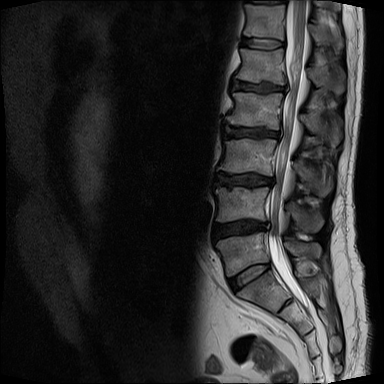Degenerative Disc Disease (DDD): (224, 74, 291, 101)
Lumbar Disc Bulge (LDB): (208, 206, 280, 245), (216, 114, 285, 146), (209, 162, 282, 189)
Normal IVD: (219, 258, 274, 300), (231, 33, 288, 53)
Spinal Stenosis (SS): (248, 161, 285, 198), (247, 209, 280, 246)
